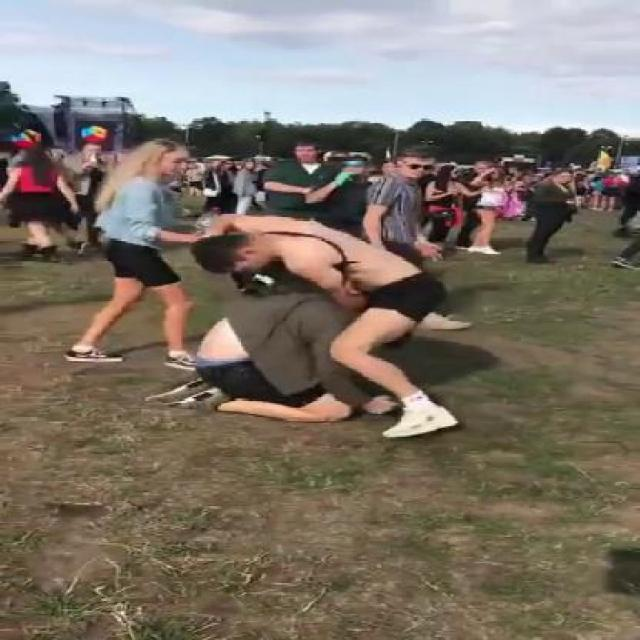fight: (168, 210, 468, 438)
